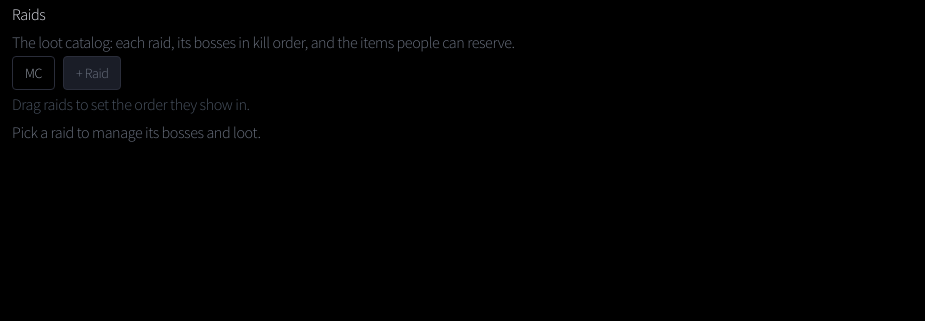
Test case: Items on many bosses › attaches an existing item to another boss and detaches it again
Later steps or results of the test are not shown.
Click the button "MC": (34, 73) [12,56,55,90]
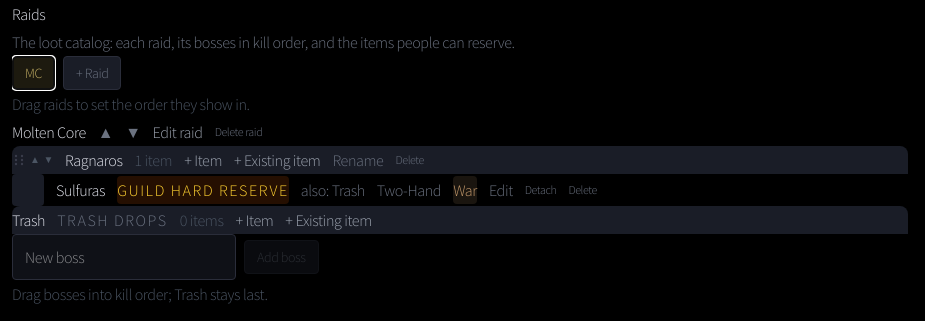
Result: the text "Sulfuras" is shown at [56,176,105,204]
Result: the text "Guild hard reserve" is shown at [117,176,289,204]
